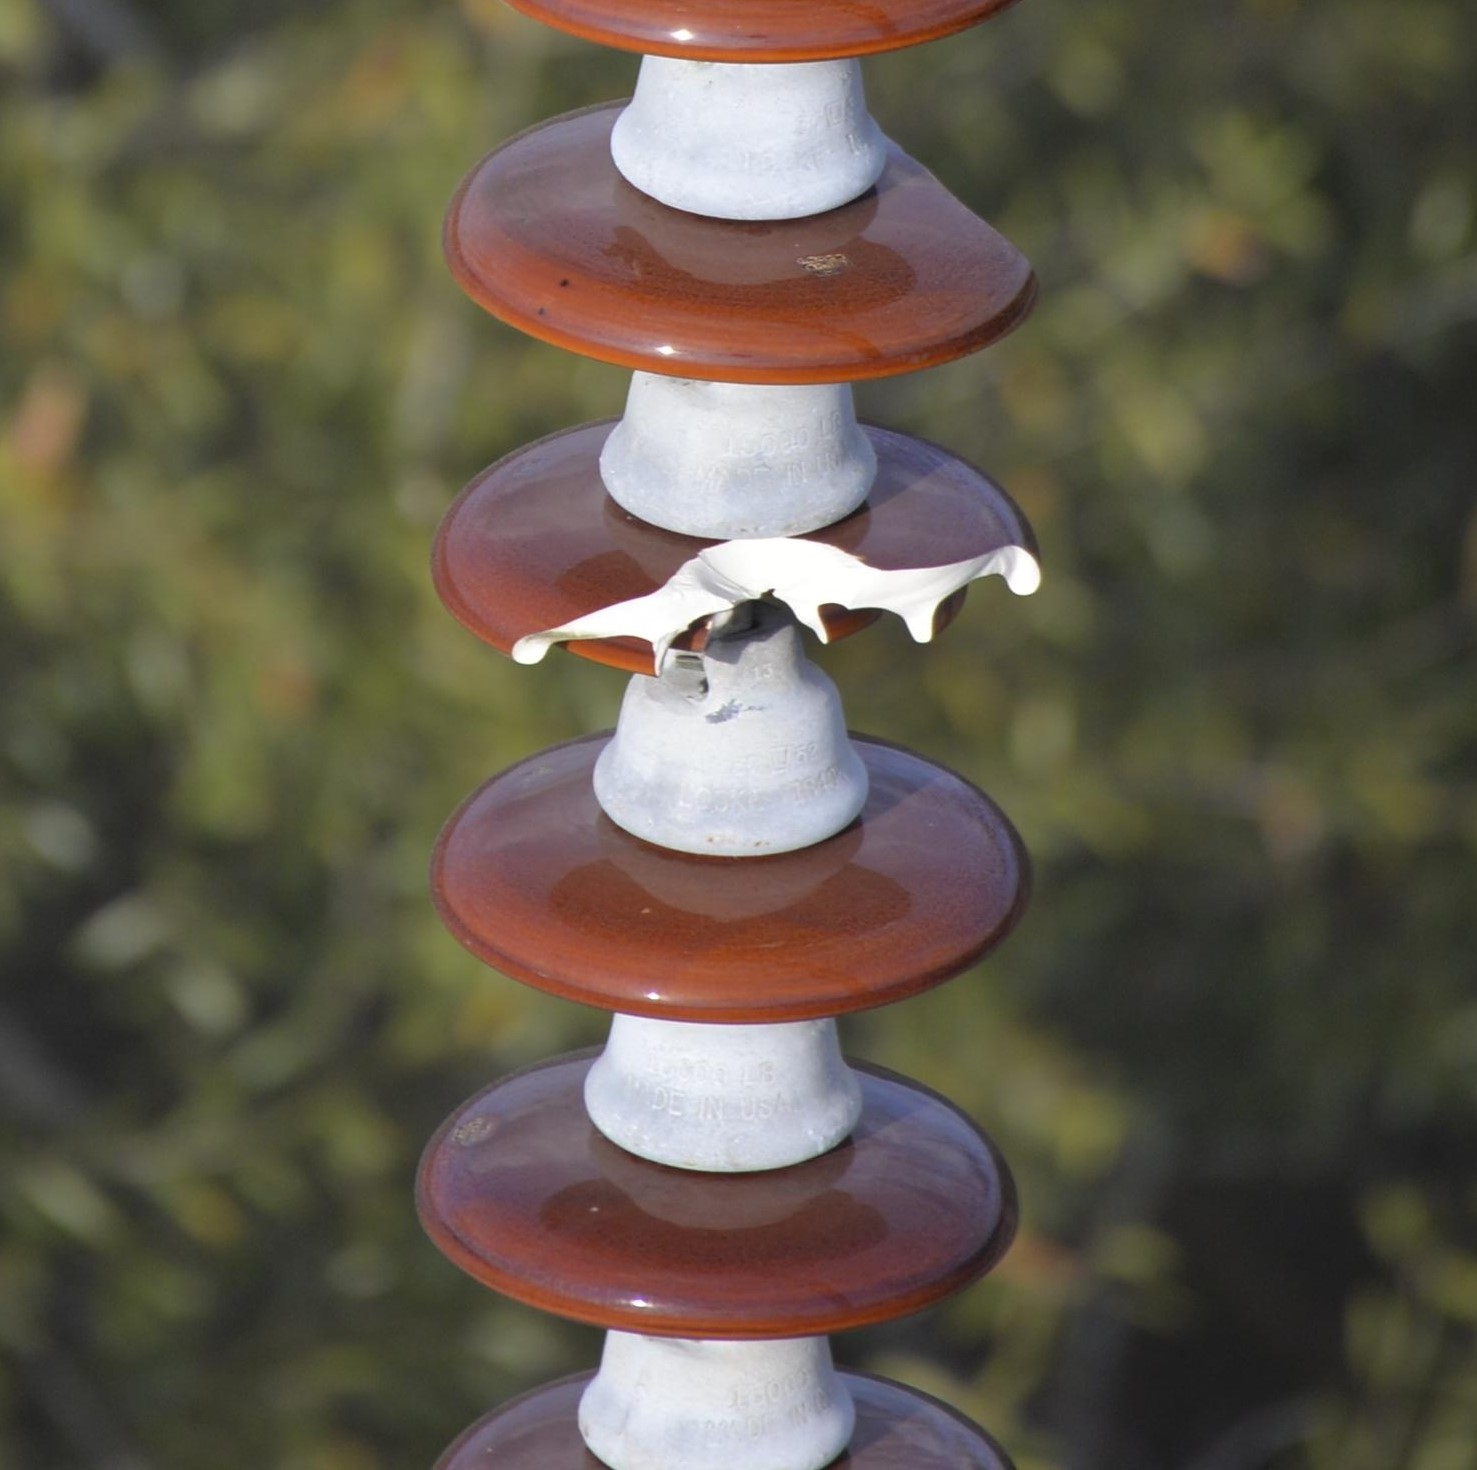insulator breakage: (423, 421, 1052, 691)
